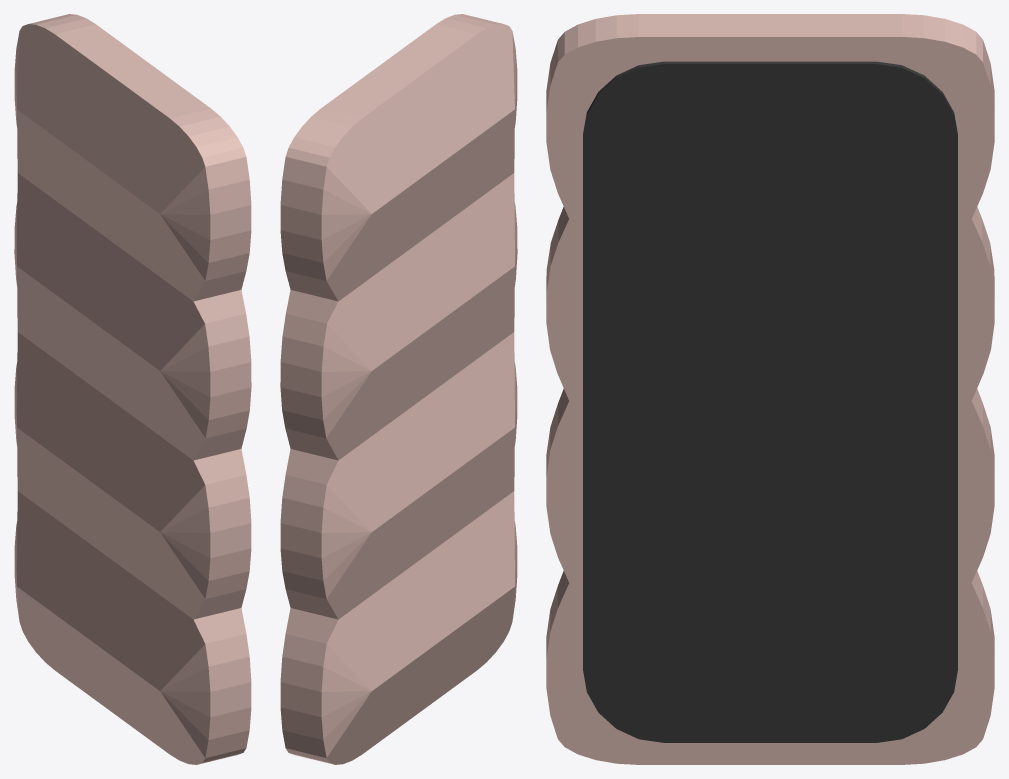
Rendered from phone.glb.
3 views of the same model, side by side, from view 1: azimuth 30°, elevation 25°; view 2: azimuth 150°, elevation 25°; view 3: azimuth 270°, elevation 25° (orthographic). The views are drawn at different scales.
Parts seen in each view (by area): view 1: Cube.001; view 2: Cube.001; view 3: Cube, Cube.001.
Part boxes in pixels (x1,y1,x2,y2): Cube.001: (14,14,251,764); Cube.001: (280,14,517,764); Cube: (583,61,957,742); Cube.001: (546,14,994,764).
Bounding box in the file's own units: 0.1317 × 1.15 × 0.6427.
